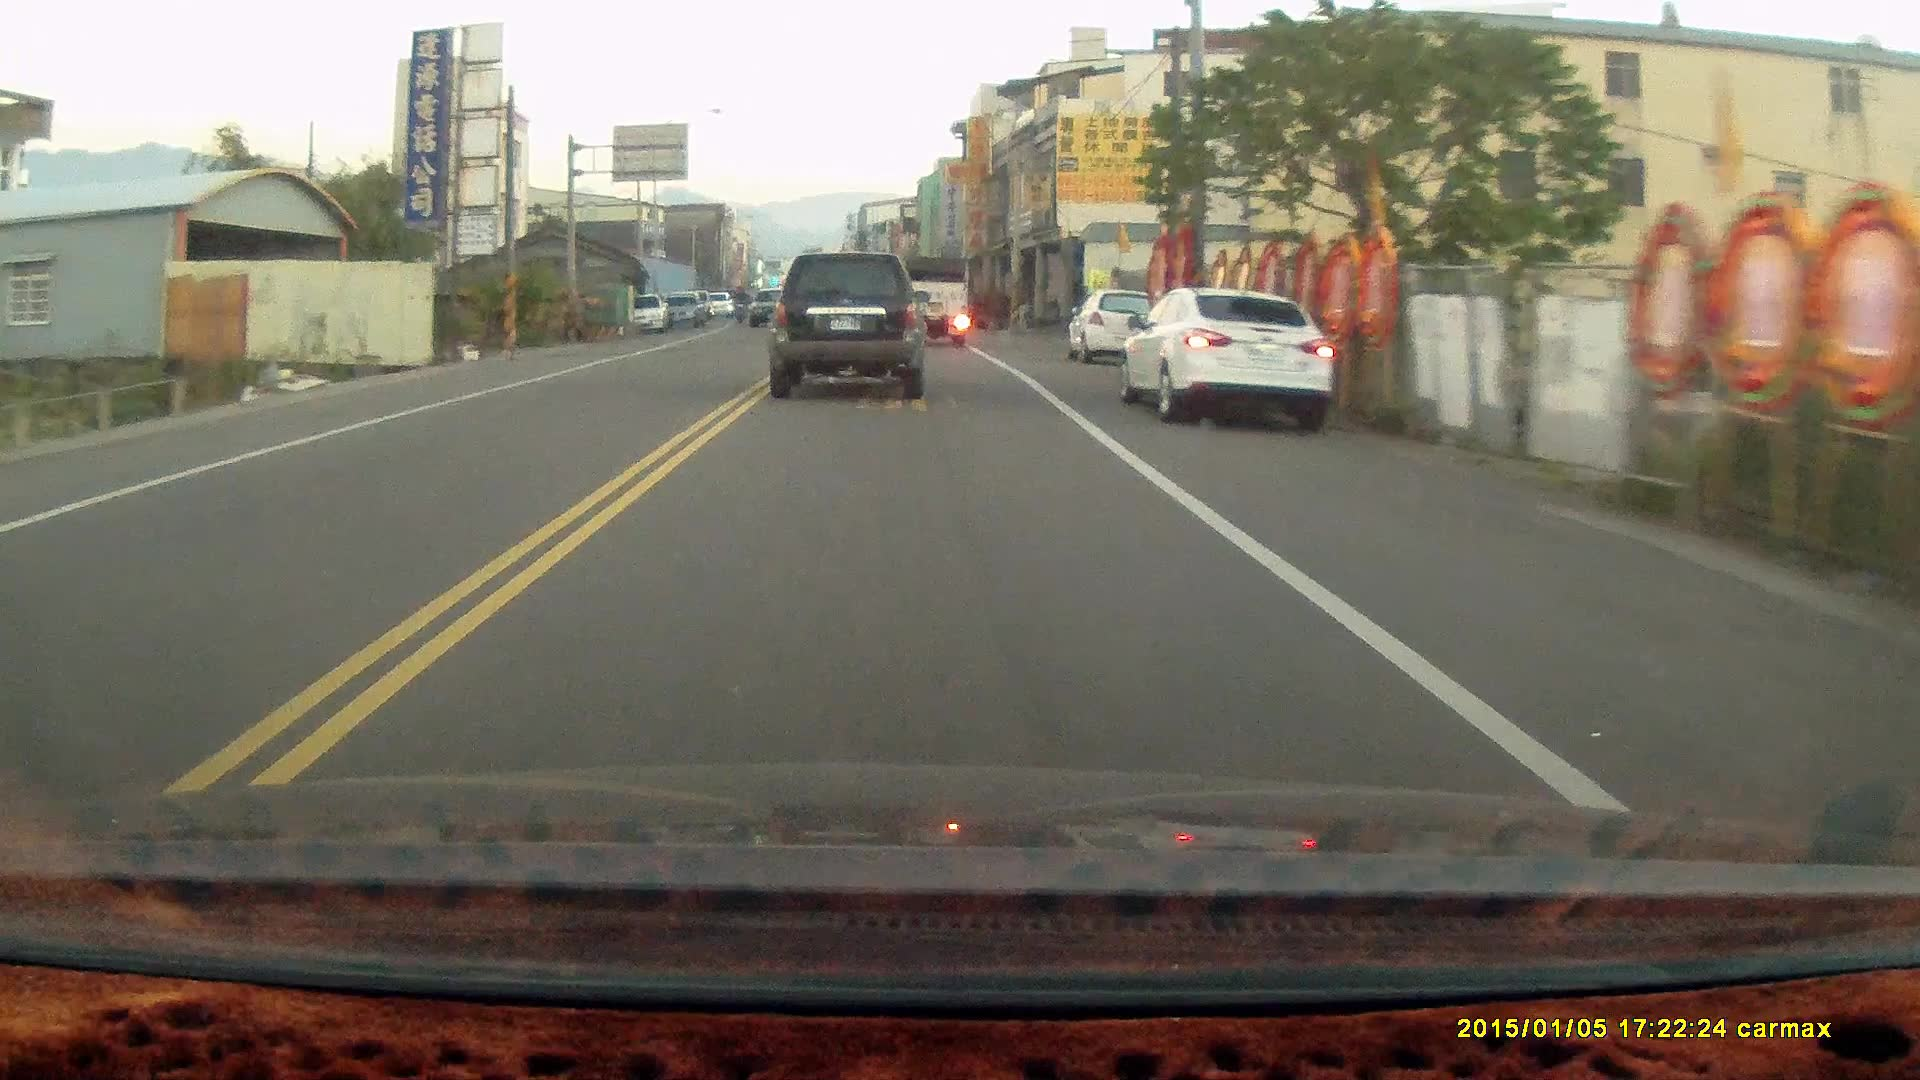vehicle: (1120, 290, 1337, 430), (770, 256, 928, 405), (1069, 291, 1166, 369), (895, 258, 973, 353)
